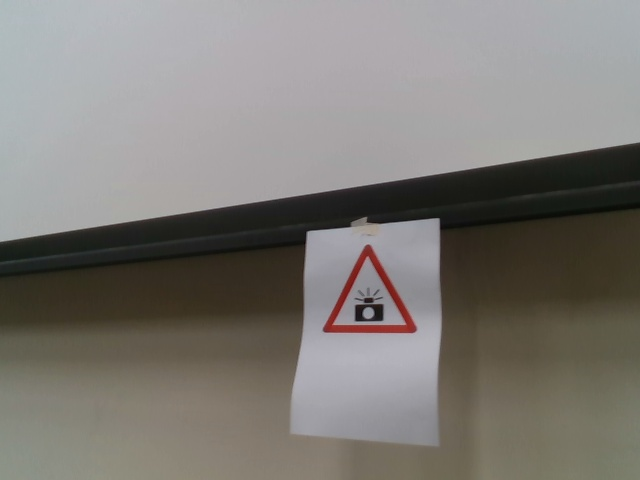camera: (320, 243, 419, 337)
